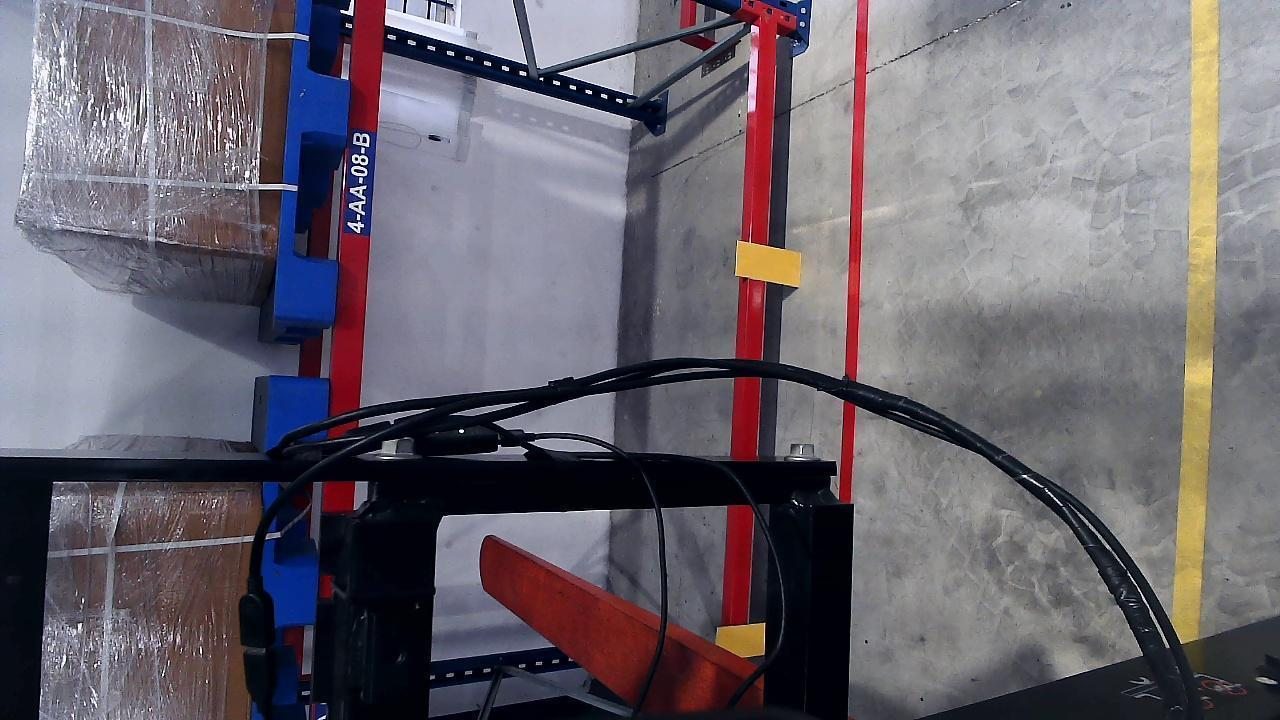red_line: (843, 7, 868, 379)
yellow_line: (1170, 56, 1220, 670)
